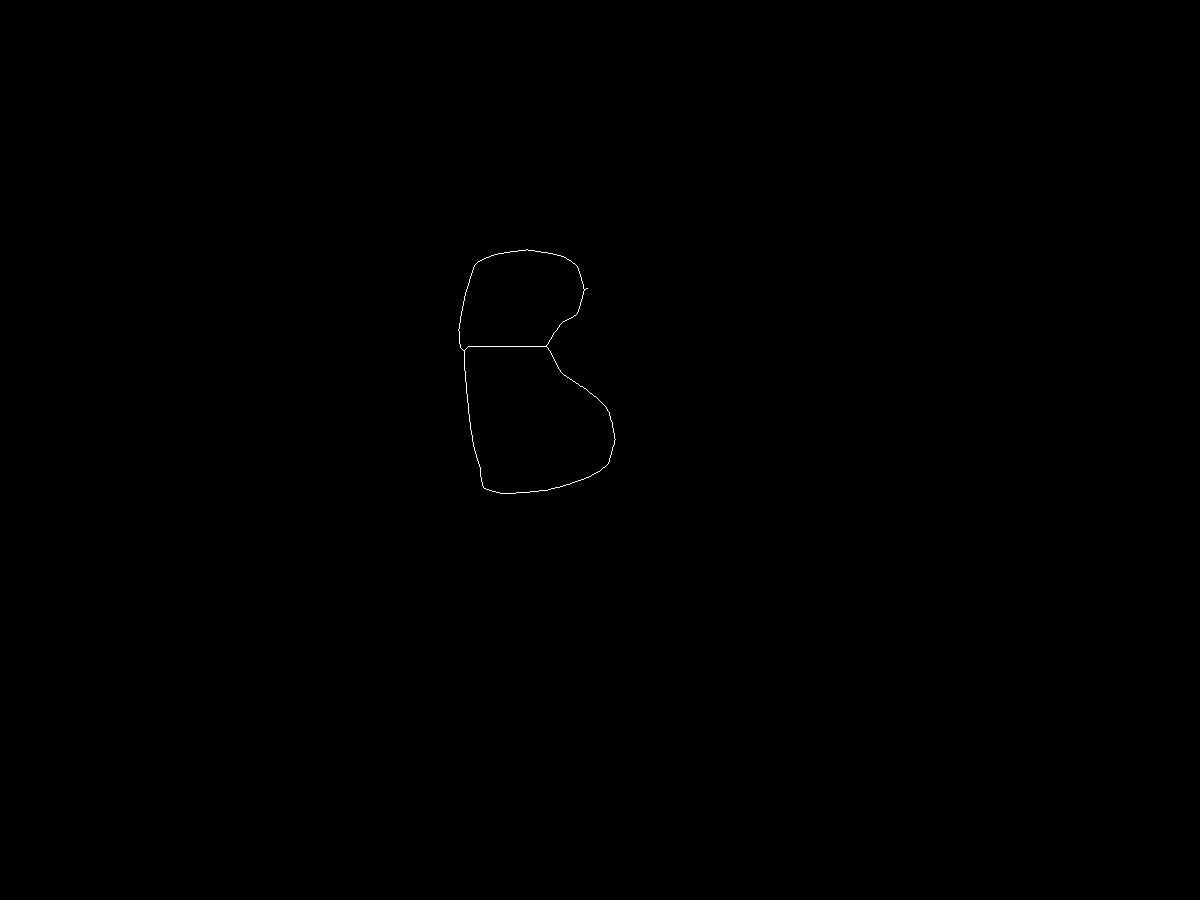dian1: (470, 251, 490, 271)
dian2: (459, 342, 471, 354)
dian3: (474, 477, 492, 495)
dian4: (540, 342, 557, 359)
